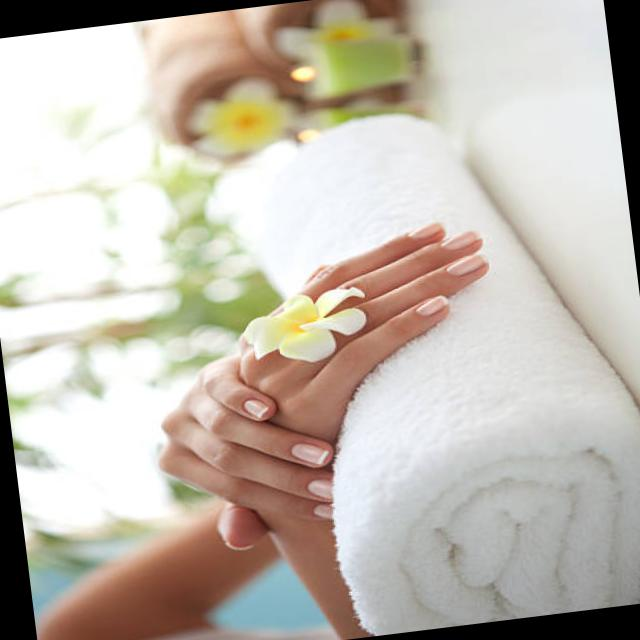Nail: (446, 253, 485, 275), (291, 442, 329, 464), (440, 230, 479, 249), (417, 294, 448, 315), (242, 397, 269, 417), (407, 221, 441, 236), (307, 477, 331, 498), (313, 502, 333, 518)
